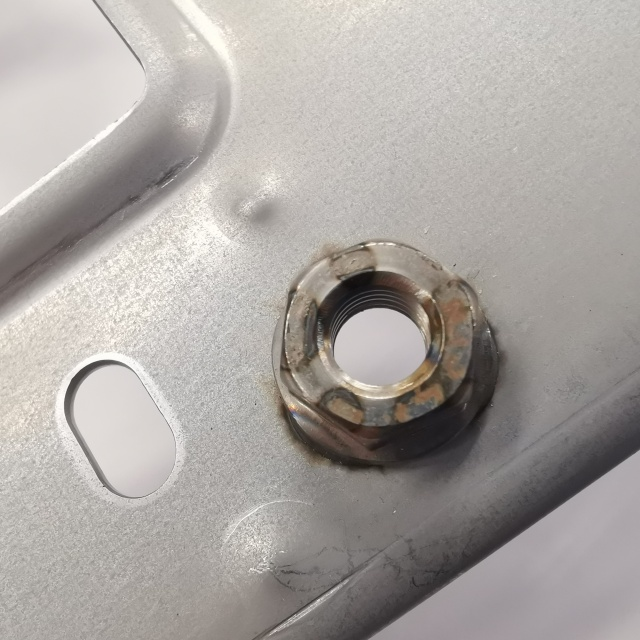dog: (264, 233, 507, 474)
